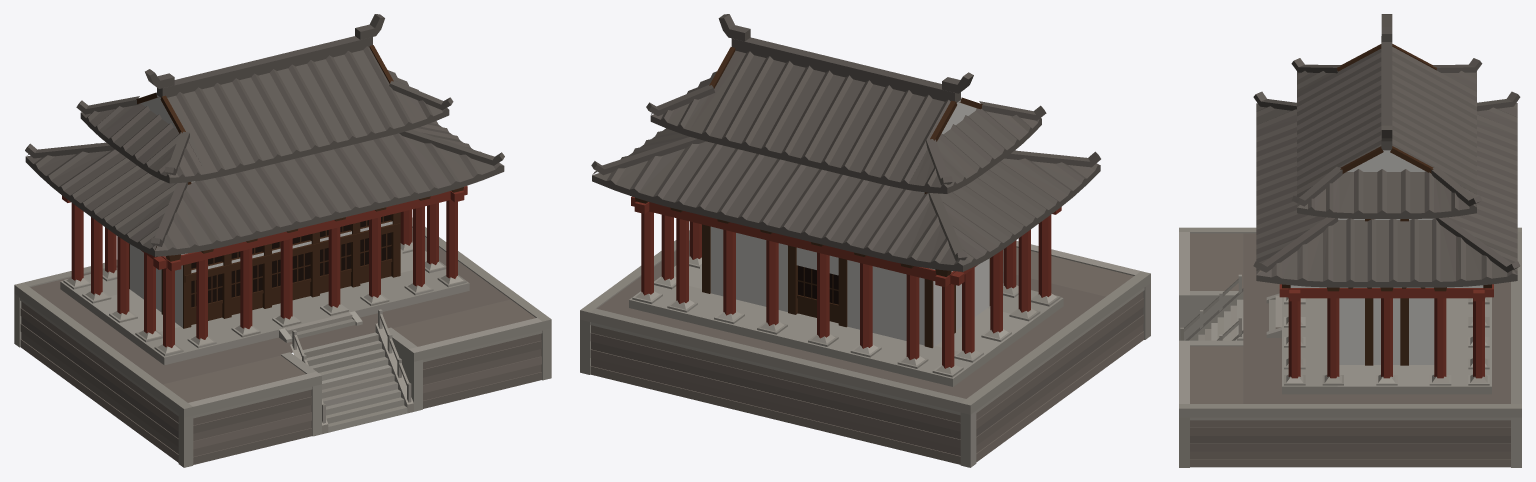
Rendered from governor-s-audience-hall-a4d777.glb.
3 renders of one model, left to right at view 1: azimuth 30°, elevation 25°; view 2: azimuth 150°, elevation 25°; view 3: azimuth 270°, elevation 25°, orthographic. The views are drawn at different scales.
Visible parts, largest first — view 1: audience-hall-body, door-3-r-leaf, door-1-r-leaf; view 2: audience-hall-body, door-back-r-leaf; view 3: audience-hall-body.
Boxes of the visible parts, x1,y1,x2,y2 form: audience-hall-body: [14, 14, 551, 467]; door-3-r-leaf: [292, 252, 311, 300]; door-1-r-leaf: [208, 274, 222, 320]; audience-hall-body: [580, 14, 1150, 467]; door-back-r-leaf: [797, 265, 816, 317]; audience-hall-body: [1179, 14, 1521, 467].
Bounding box in the file's own units: 20 × 15.82 × 16.
